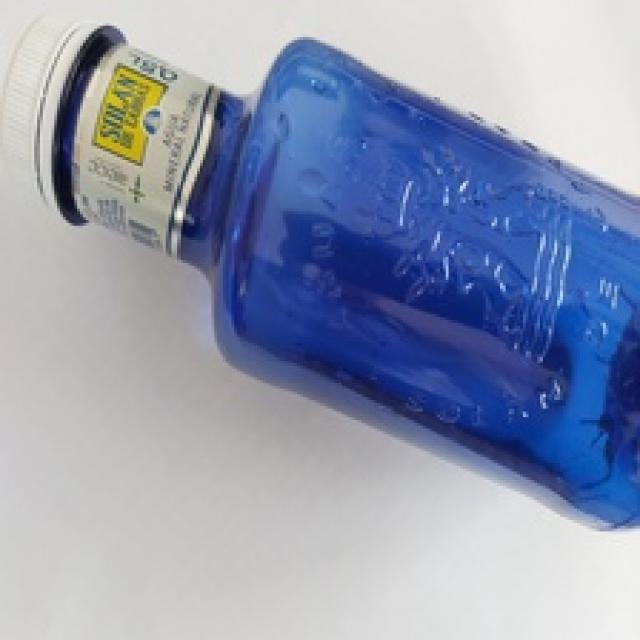Plastic: (0, 12, 640, 534)
